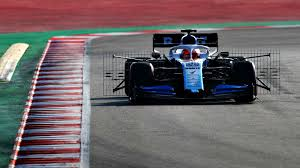f1_car: (102, 28, 282, 114)
